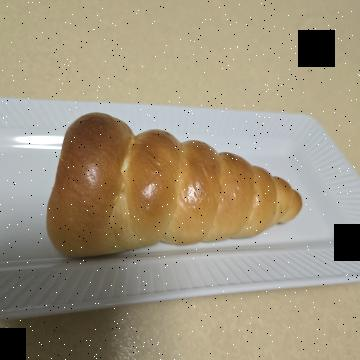cream horn: (97, 59, 296, 333)
